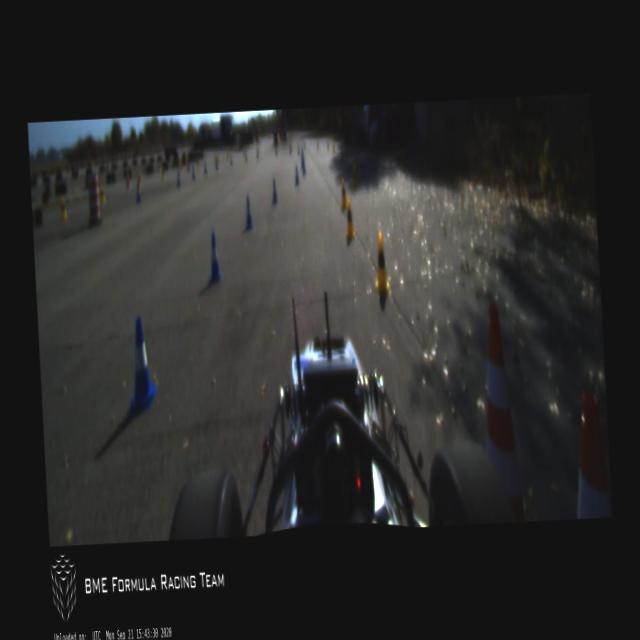blue_cone: (122, 316, 159, 416), (205, 232, 222, 284), (244, 197, 253, 230), (271, 177, 277, 205), (136, 184, 142, 203), (294, 165, 299, 185)
large_orange_cone: (478, 302, 526, 523)
yellow_cone: (372, 233, 390, 295), (344, 197, 356, 240), (340, 180, 348, 211), (60, 198, 68, 221), (351, 166, 358, 190), (100, 184, 106, 203)
